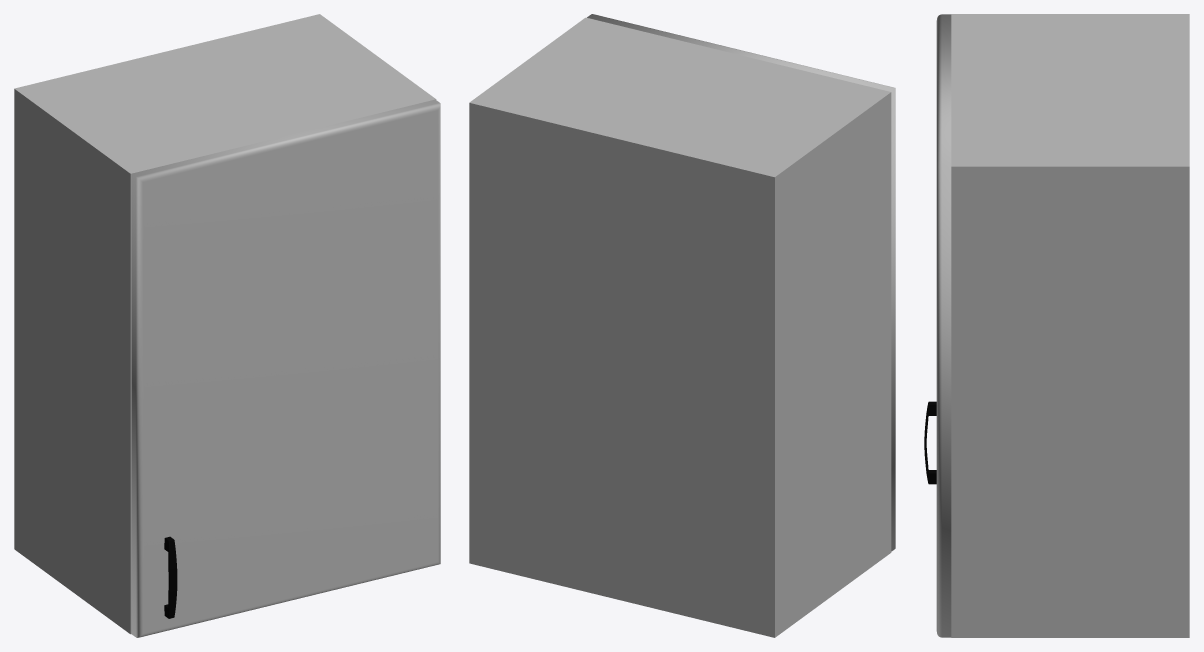
The picture shows the model from 3 angles, left to right: view 1: azimuth 30°, elevation 25°; view 2: azimuth 150°, elevation 25°; view 3: azimuth 270°, elevation 25°; orthographic projection. The views are drawn at different scales.
Parts seen in each view (by area): view 1: Box011, Box001, Obj3d66-503491-2-344; view 2: Box001, Box011; view 3: Box001, Box011, Obj3d66-503491-2-344.
Part boxes in pixels (x1,y1,x2,y2): Box011: (131,99,440,637); Box001: (14,14,436,634); Obj3d66-503491-2-344: (164,536,177,618); Box001: (469,17,891,637); Box011: (587,14,895,551); Box001: (951,14,1189,637); Box011: (936,14,951,637); Obj3d66-503491-2-344: (924,401,936,484).
Size of the model in its own units: 0.5 by 0.72 by 0.3671.
Materials: 2 (1 with a texture image).
